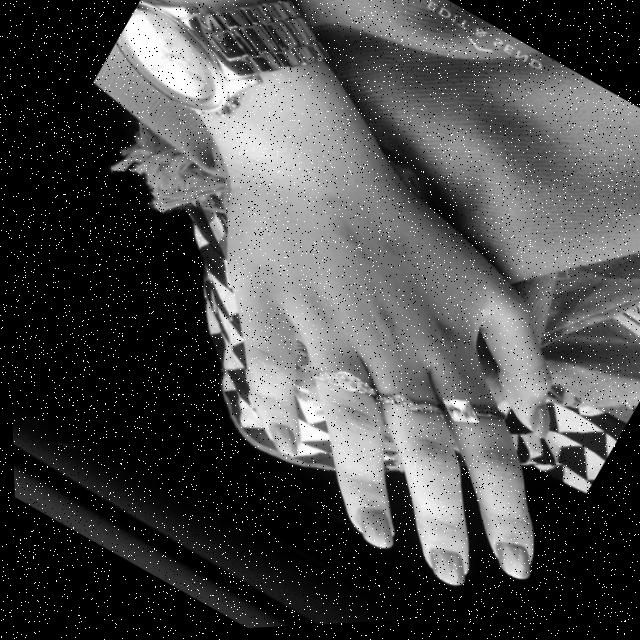hand: (97, 98, 640, 636)
